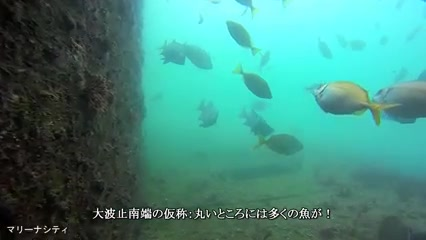azi: (303, 77, 399, 130)
smallfish: (256, 127, 309, 162), (191, 96, 224, 126)
